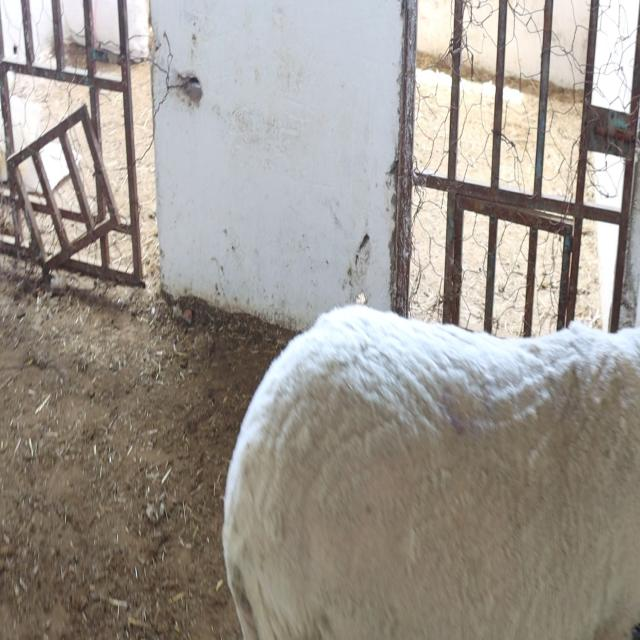Score_4: (222, 305, 640, 639)
